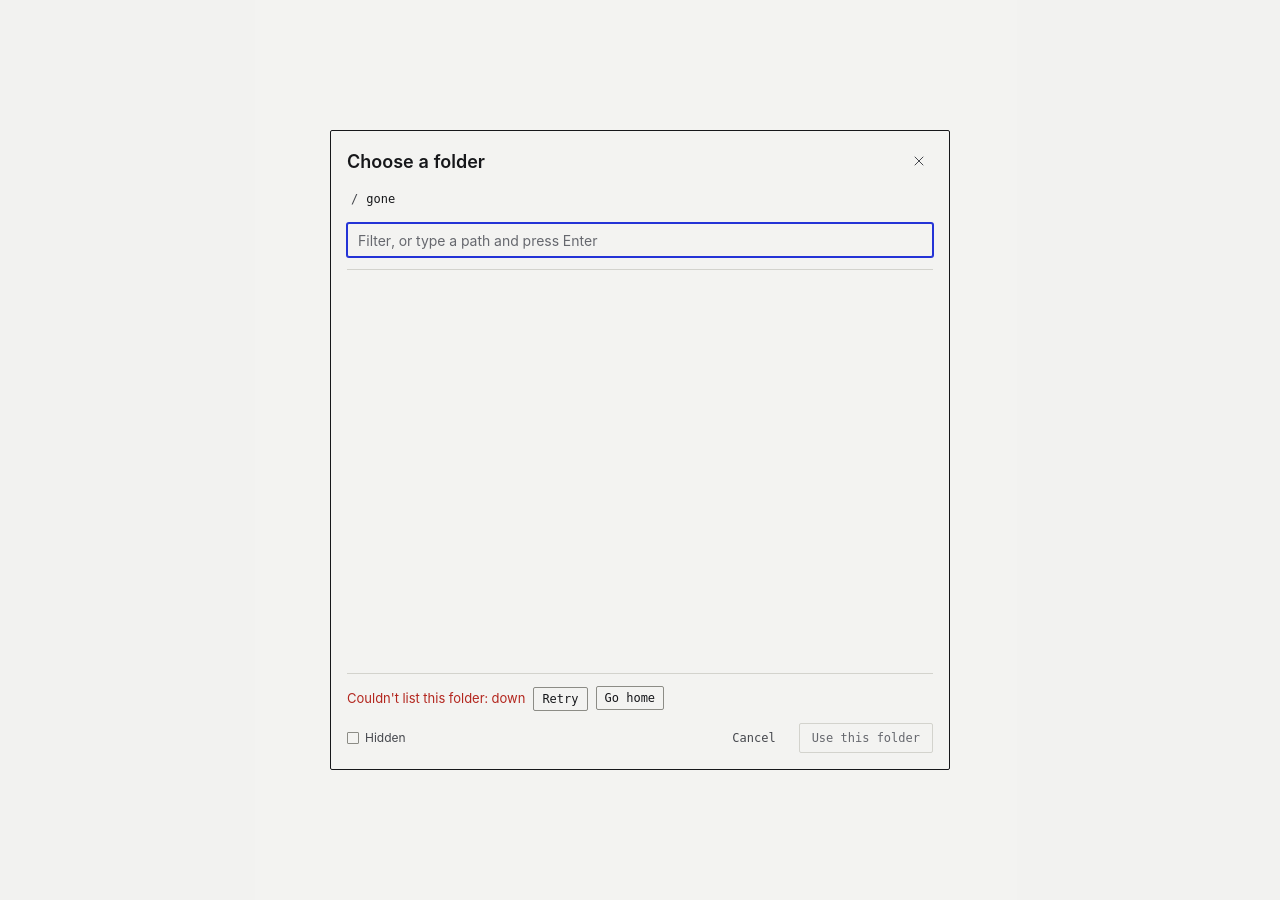
Test: FolderPicker loading and keys › offers to go home when the first listing fails
This screenshot has width=1280, height=900.
Click the button "Go home": coordinates (630, 698) [596,686,664,710]
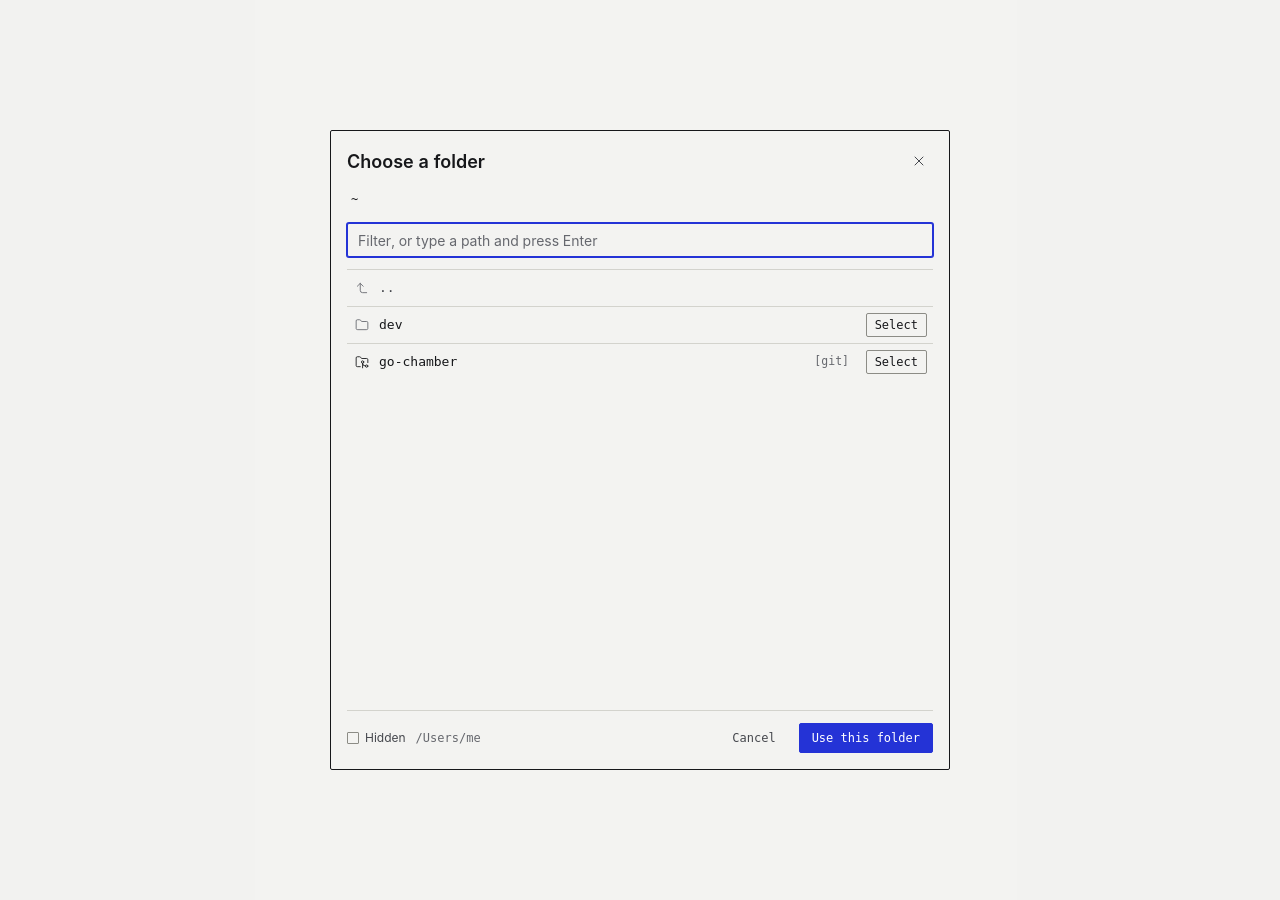
expect the button "dev" is shown: met, box [347,307,933,343]
